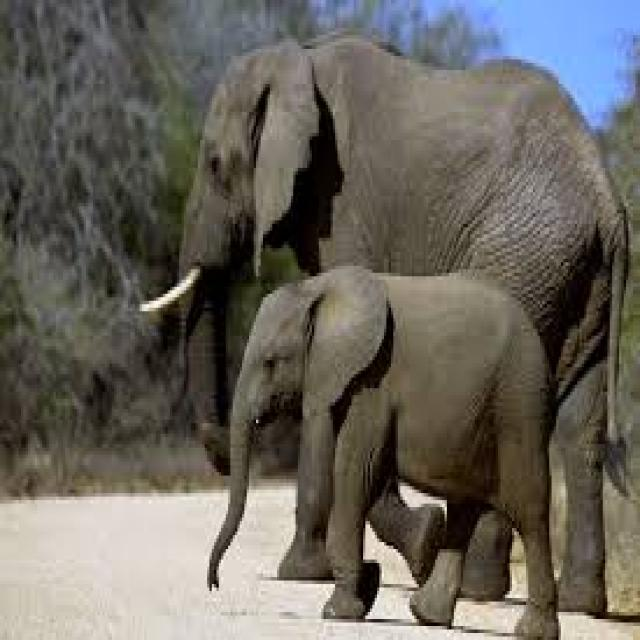Elephant: (137, 28, 631, 615), (205, 263, 561, 636)
